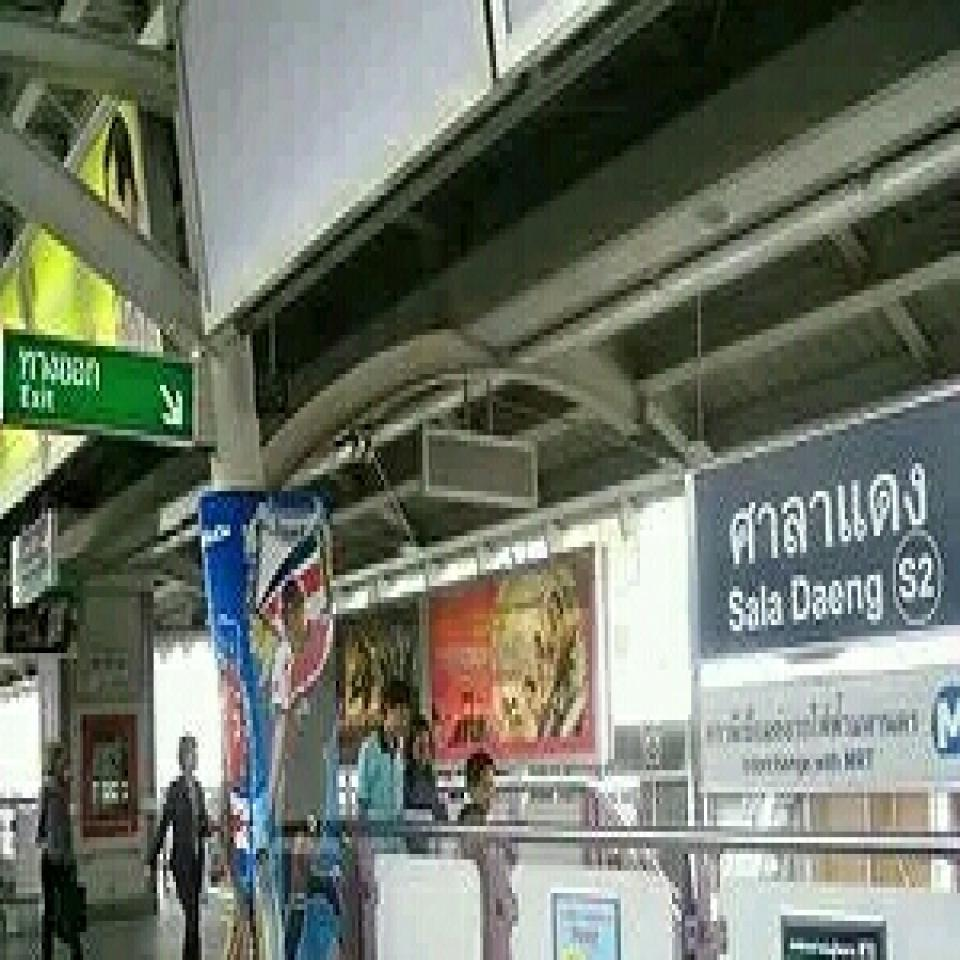signage: (694, 384, 957, 666)
